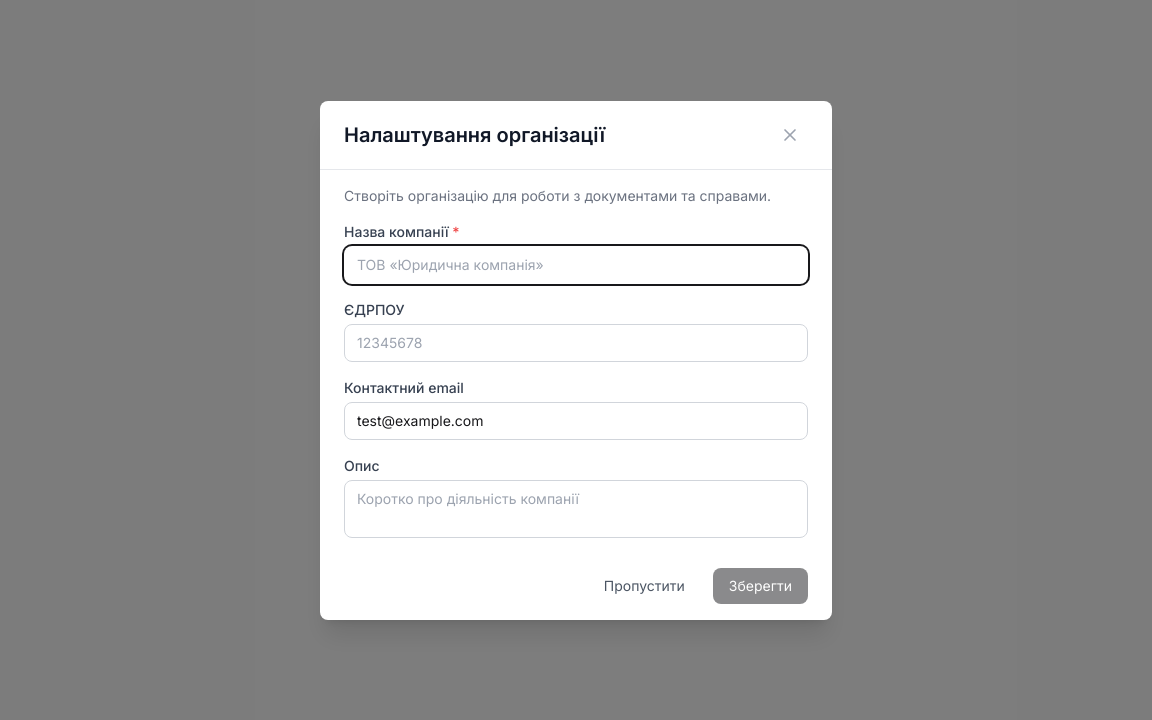
Test: OrganizationSetupModal › enables save button when name is filled
The width and height of the screenshot is (1152, 720).
Type "Test Company" into the field labelled "Назва компанії *" at point(576, 264), box x1=344 y1=246 x2=808 y2=284
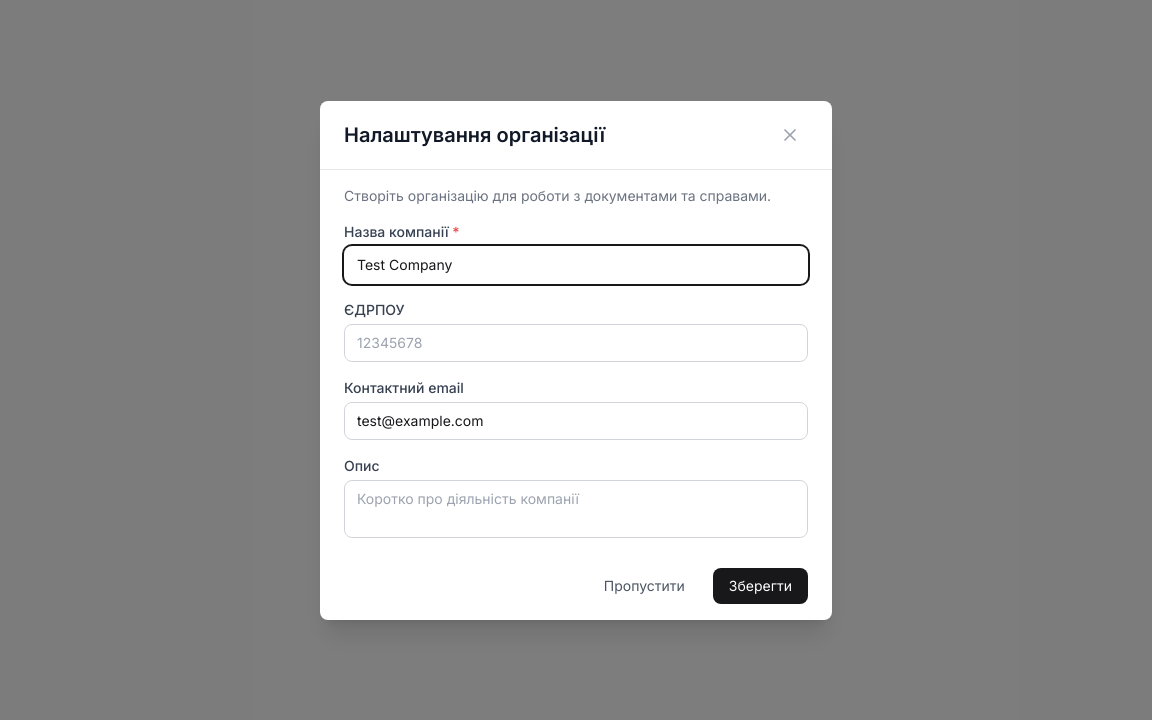
Expected: the button "Зберегти" is enabled, x1=713 y1=568 x2=808 y2=604
